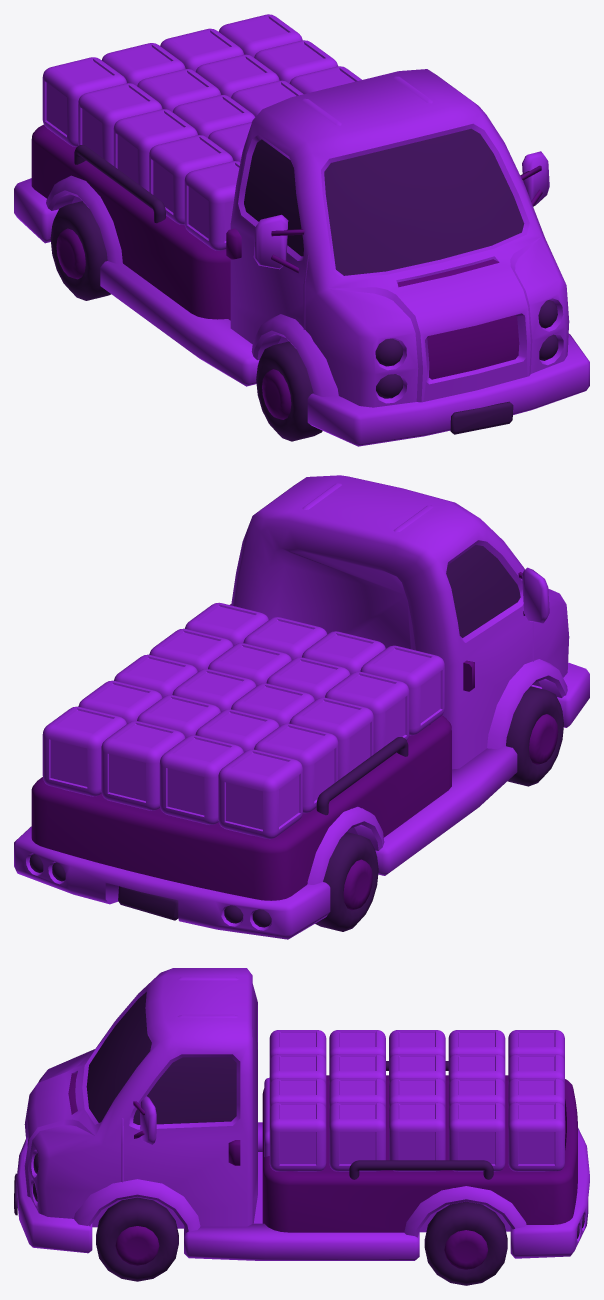
Rendered from TRUCK.fbx.
3 renders of one model, top to bottom at view 1: azimuth 30°, elevation 25°; view 2: azimuth 150°, elevation 25°; view 3: azimuth 270°, elevation 25°, orthographic. The views are drawn at different scales.
Visible parts, largest first — view 1: Truck, Till, Wheel_2A_F.R, Wheel_2A_R.R, Box.002, Box.018, Box.017, Box.009, Box.010, Box.005, Box.006, Box.007 (+8 smaller); view 2: Truck, Till, Box.002, Box.003, Box.005, Box.004, Wheel_2A_F.R, Wheel_2A_R.R, Box.018, Box.009, Box.017, Box.010 (+13 smaller); view 3: Truck, Till, Wheel_2A_R.L, Wheel_2A_F.L, Box.021, Box.005, Box.014, Box.006, Box.013, Handle_02, Box.007, Box.008 (+14 smaller).
Part boxes in pixels (x1,y1,x2,y2): Truck: [14, 69, 589, 446]; Till: [31, 124, 230, 320]; Wheel_2A_F.R: [256, 341, 322, 441]; Wheel_2A_R.R: [50, 201, 110, 300]; Box.002: [42, 57, 126, 146]; Box.018: [184, 161, 240, 250]; Box.017: [149, 135, 233, 224]; Box.009: [78, 83, 162, 165]; Box.010: [113, 109, 197, 191]; Box.005: [218, 14, 302, 57]; Box.006: [254, 40, 337, 83]; Box.007: [195, 54, 279, 97]; Truck: [14, 475, 589, 939]; Till: [31, 715, 451, 900]; Box.002: [218, 749, 302, 839]; Box.003: [159, 735, 243, 824]; Box.005: [42, 706, 126, 796]; Box.004: [101, 721, 185, 810]; Wheel_2A_F.R: [506, 686, 563, 786]; Wheel_2A_R.R: [315, 832, 378, 931]; Box.018: [360, 645, 444, 735]; Box.009: [254, 723, 338, 813]; Box.017: [325, 671, 409, 753]; Box.010: [289, 697, 373, 779]; Truck: [14, 968, 589, 1260]; Till: [262, 1075, 577, 1232]; Wheel_2A_R.L: [424, 1201, 507, 1285]; Wheel_2A_F.L: [96, 1197, 178, 1281]; Box.021: [269, 1102, 326, 1171]; Box.005: [508, 1102, 564, 1171]; Box.014: [329, 1102, 385, 1171]; Box.006: [448, 1102, 505, 1171]; Box.013: [389, 1102, 445, 1171]; Handle_02: [349, 1160, 493, 1179]; Box.007: [448, 1078, 505, 1109]; Box.008: [448, 1054, 505, 1085].
Size of the model in its own units: 2.76 by 2.48 by 5.56.
